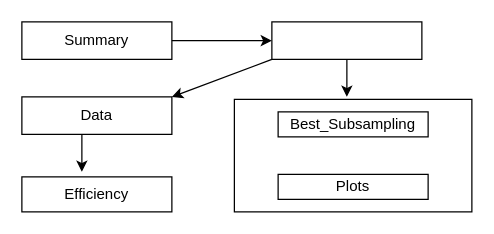
Image size: 494x234. Some labels were removed from this diagram. The shapes that lost their labels are listed below. From the top down, each one's box as (x1, y1, x2, y2) in pixels, then its label:
(271, 21, 422, 59): Classical
(233, 98, 472, 212): Best_Subsampling_Method.html
